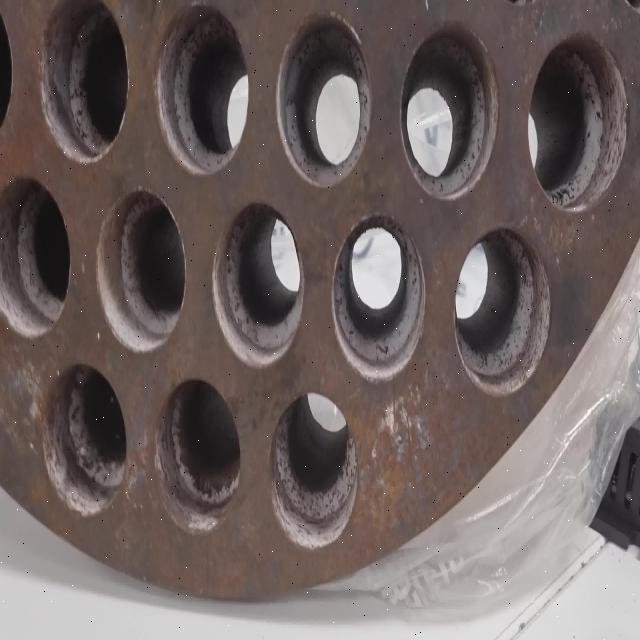Hole: (529, 31, 629, 213), (401, 19, 498, 200), (276, 11, 372, 188), (154, 2, 251, 177), (454, 225, 552, 395), (331, 210, 426, 382), (212, 201, 304, 368), (39, 0, 130, 164), (96, 189, 186, 354), (270, 392, 361, 552), (154, 376, 240, 536), (41, 362, 128, 518), (1, 174, 71, 338)
